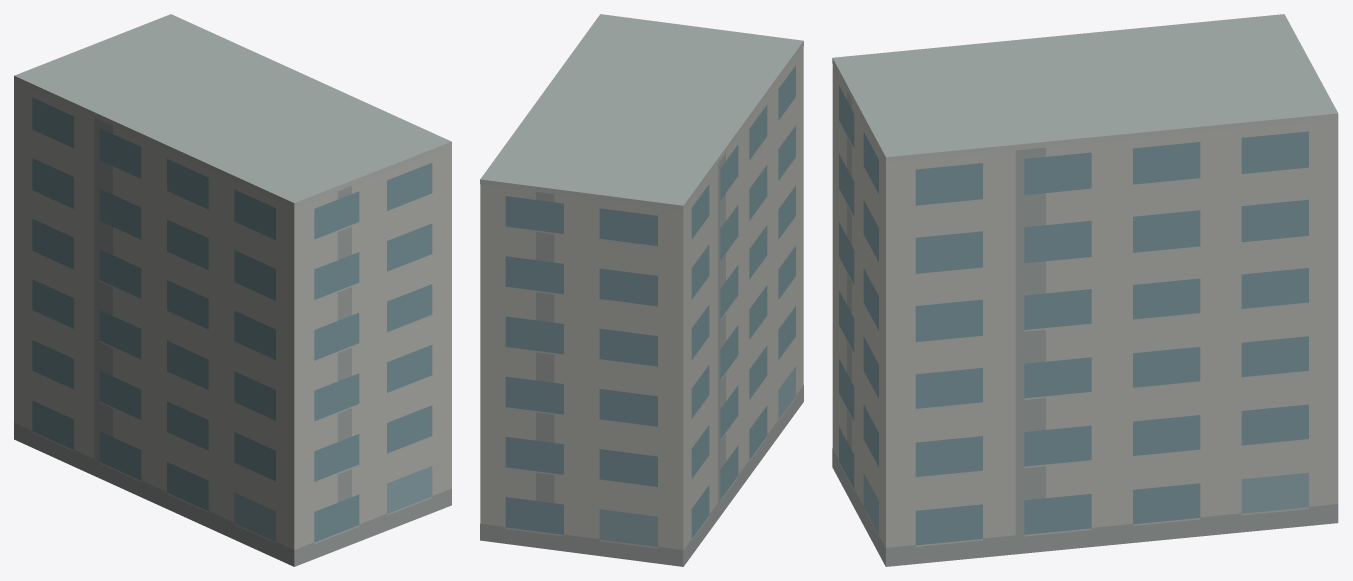
The model's file is survey-upis-32823476.glb.
The picture shows the model from 3 angles, left to right: view 1: azimuth 30°, elevation 25°; view 2: azimuth 150°, elevation 25°; view 3: azimuth 270°, elevation 25°; orthographic projection. The views are drawn at different scales.
Parts seen in each view (by area): view 1: survey-upis-32823476.tmp; view 2: survey-upis-32823476.tmp; view 3: survey-upis-32823476.tmp.
Boxes of the visible parts, x1,y1,x2,y2 form: survey-upis-32823476.tmp: (14, 14, 451, 566); survey-upis-32823476.tmp: (480, 14, 803, 566); survey-upis-32823476.tmp: (832, 14, 1338, 566).
Size of the model in its own units: 13.06 by 17.4 by 19.49.
